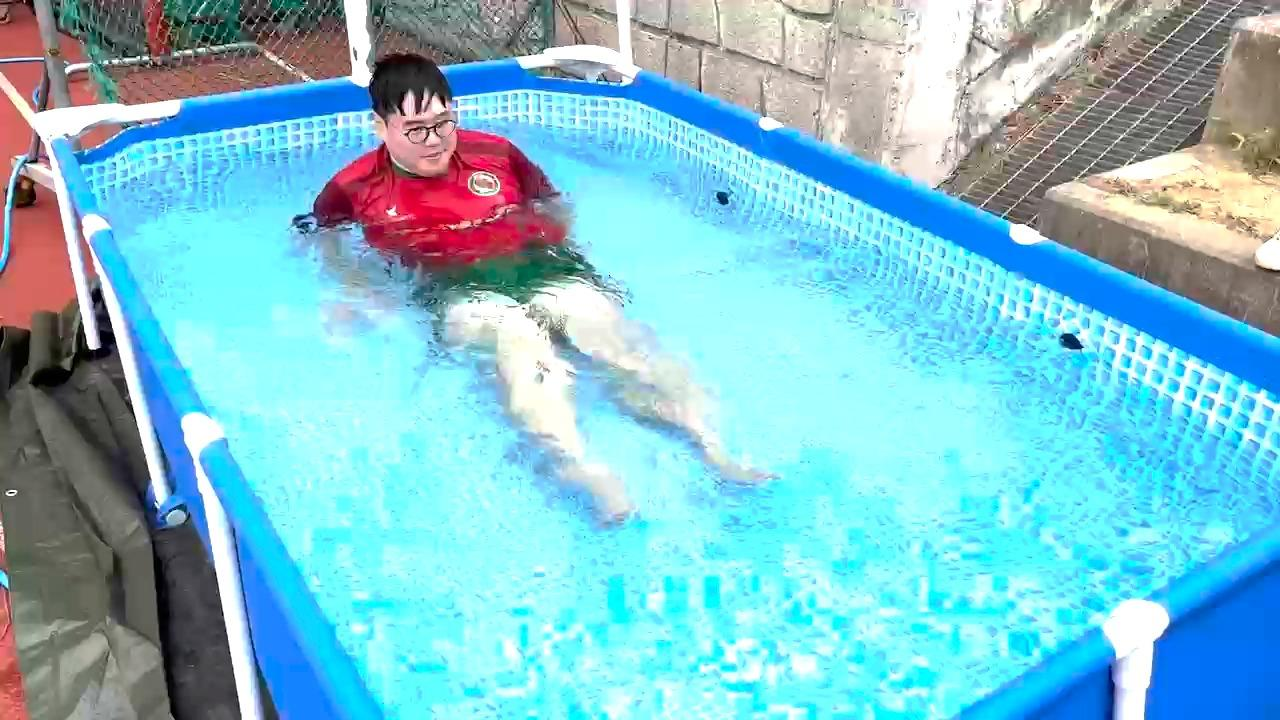Swimming: (239, 0, 790, 554)
